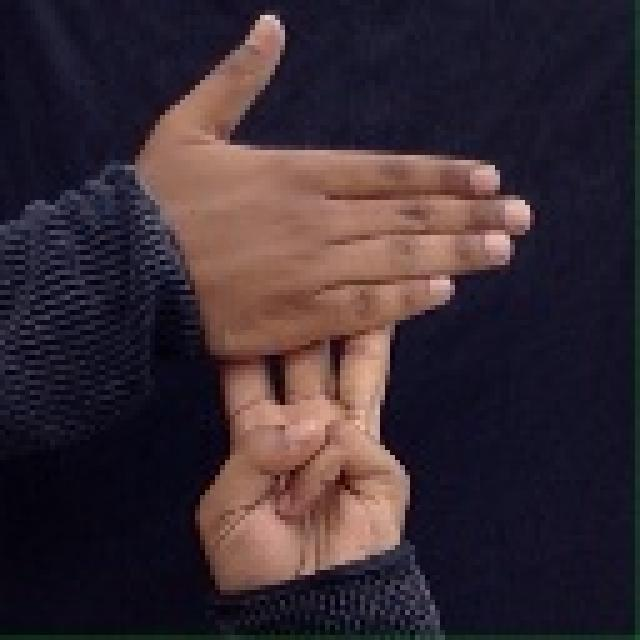Alphabet-M: (135, 9, 542, 601)
